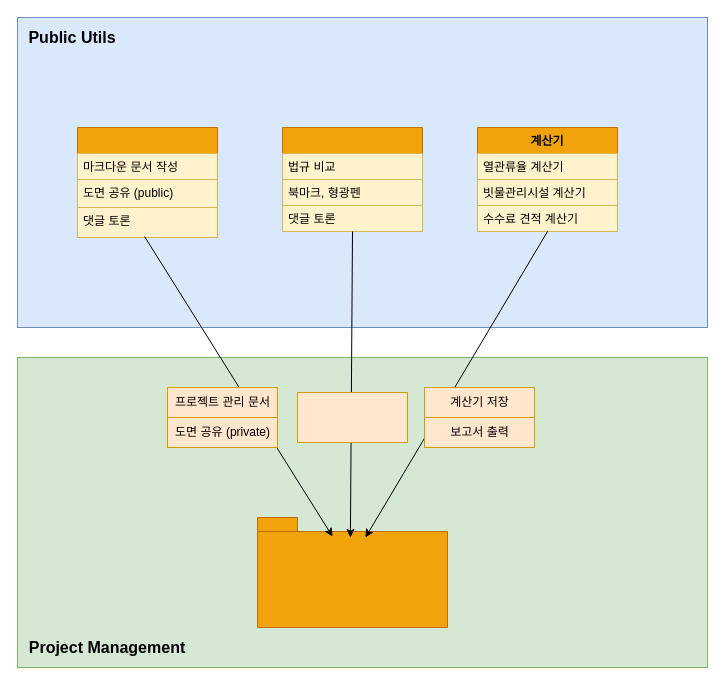
The diagram is 725 pixels wide and 693 high, and some of its shapes have lost their labels. The shapes that lost their labels are listed below. From the top down, each one's box as (x1, y1, x2, y2) in pixels, then its label:
(76, 126, 218, 238): 건축 위키
(282, 126, 422, 232): 법규 뷰어
(296, 392, 408, 442): 관련 법규 멘션, 목록화
(256, 516, 448, 628): 프로젝트관리
